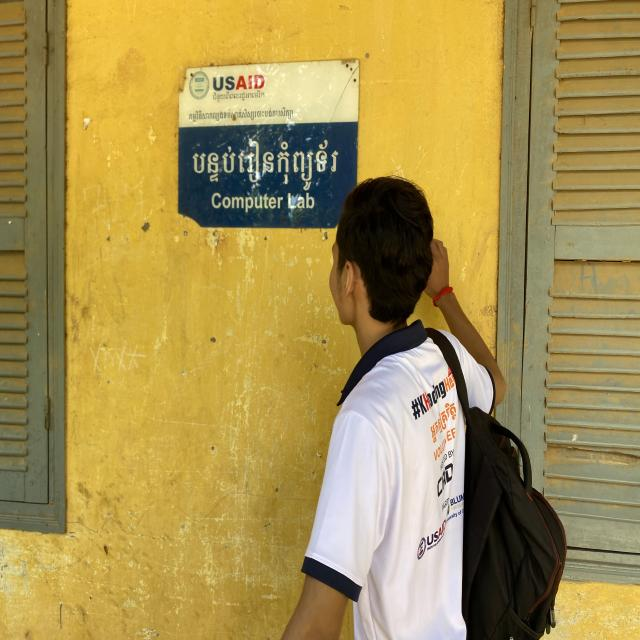Yolov11kh: (191, 128, 344, 195), (185, 106, 296, 122), (211, 90, 266, 103)
